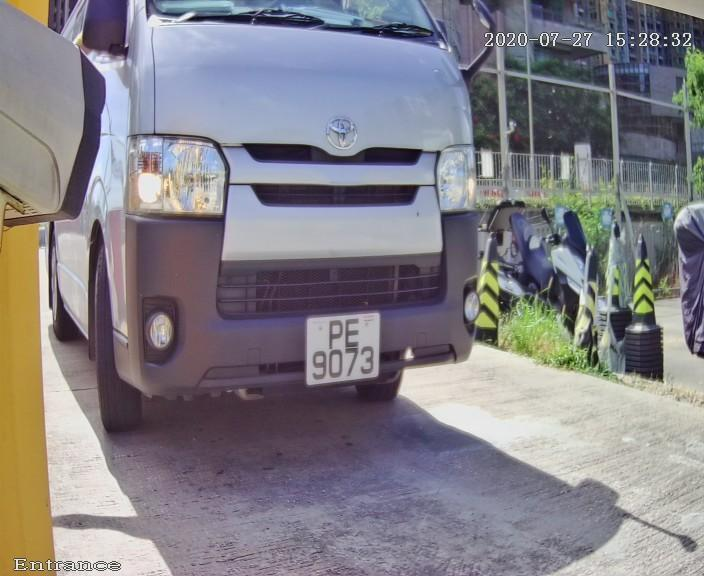privatecar: (48, 11, 525, 458)
